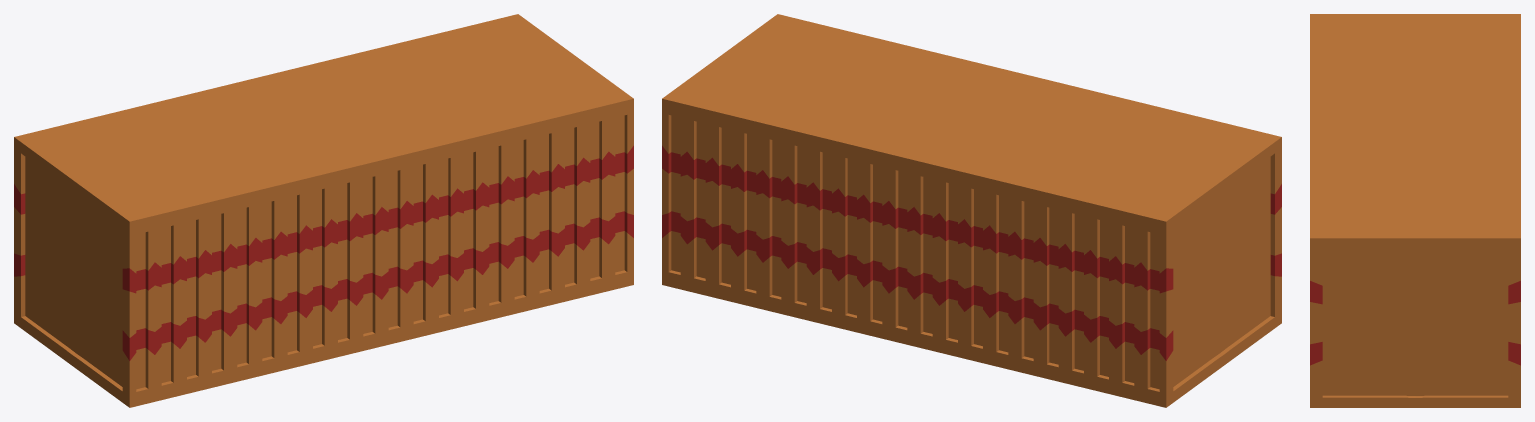
Rendered from LCargoModel08.fbx.
3 renders of one model, left to right at view 1: azimuth 30°, elevation 25°; view 2: azimuth 150°, elevation 25°; view 3: azimuth 270°, elevation 25°, orthographic. The views are drawn at different scales.
Visible parts, largest first — view 1: LCargoModel08; view 2: LCargoModel08; view 3: LCargoModel08.
Part boxes in pixels (x1,y1,x2,y2): LCargoModel08: [14, 14, 633, 407]; LCargoModel08: [662, 14, 1281, 407]; LCargoModel08: [1310, 14, 1520, 407].
Bounding box in the file's own units: 723 × 255 × 288.
